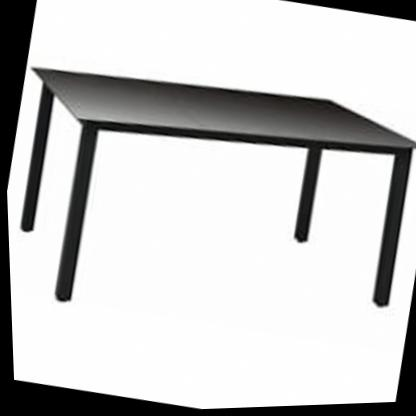Table: (1, 25, 416, 381)
